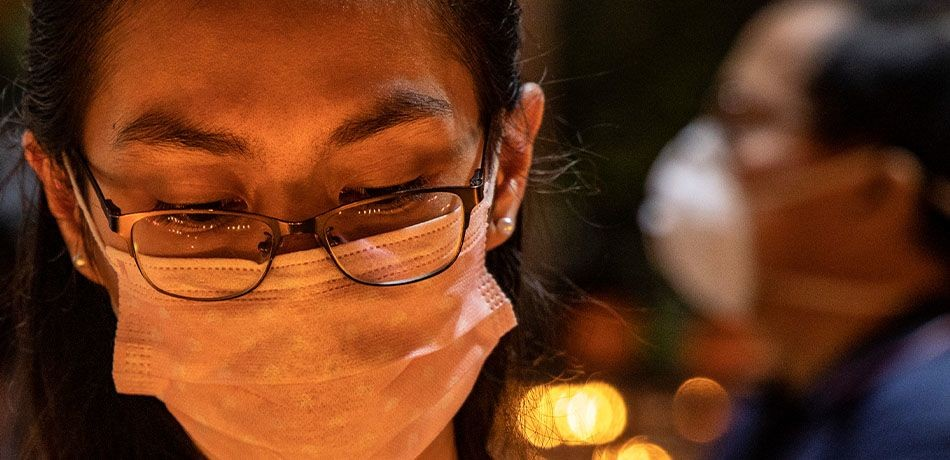with_mask: (31, 11, 549, 460), (636, 7, 945, 355)
